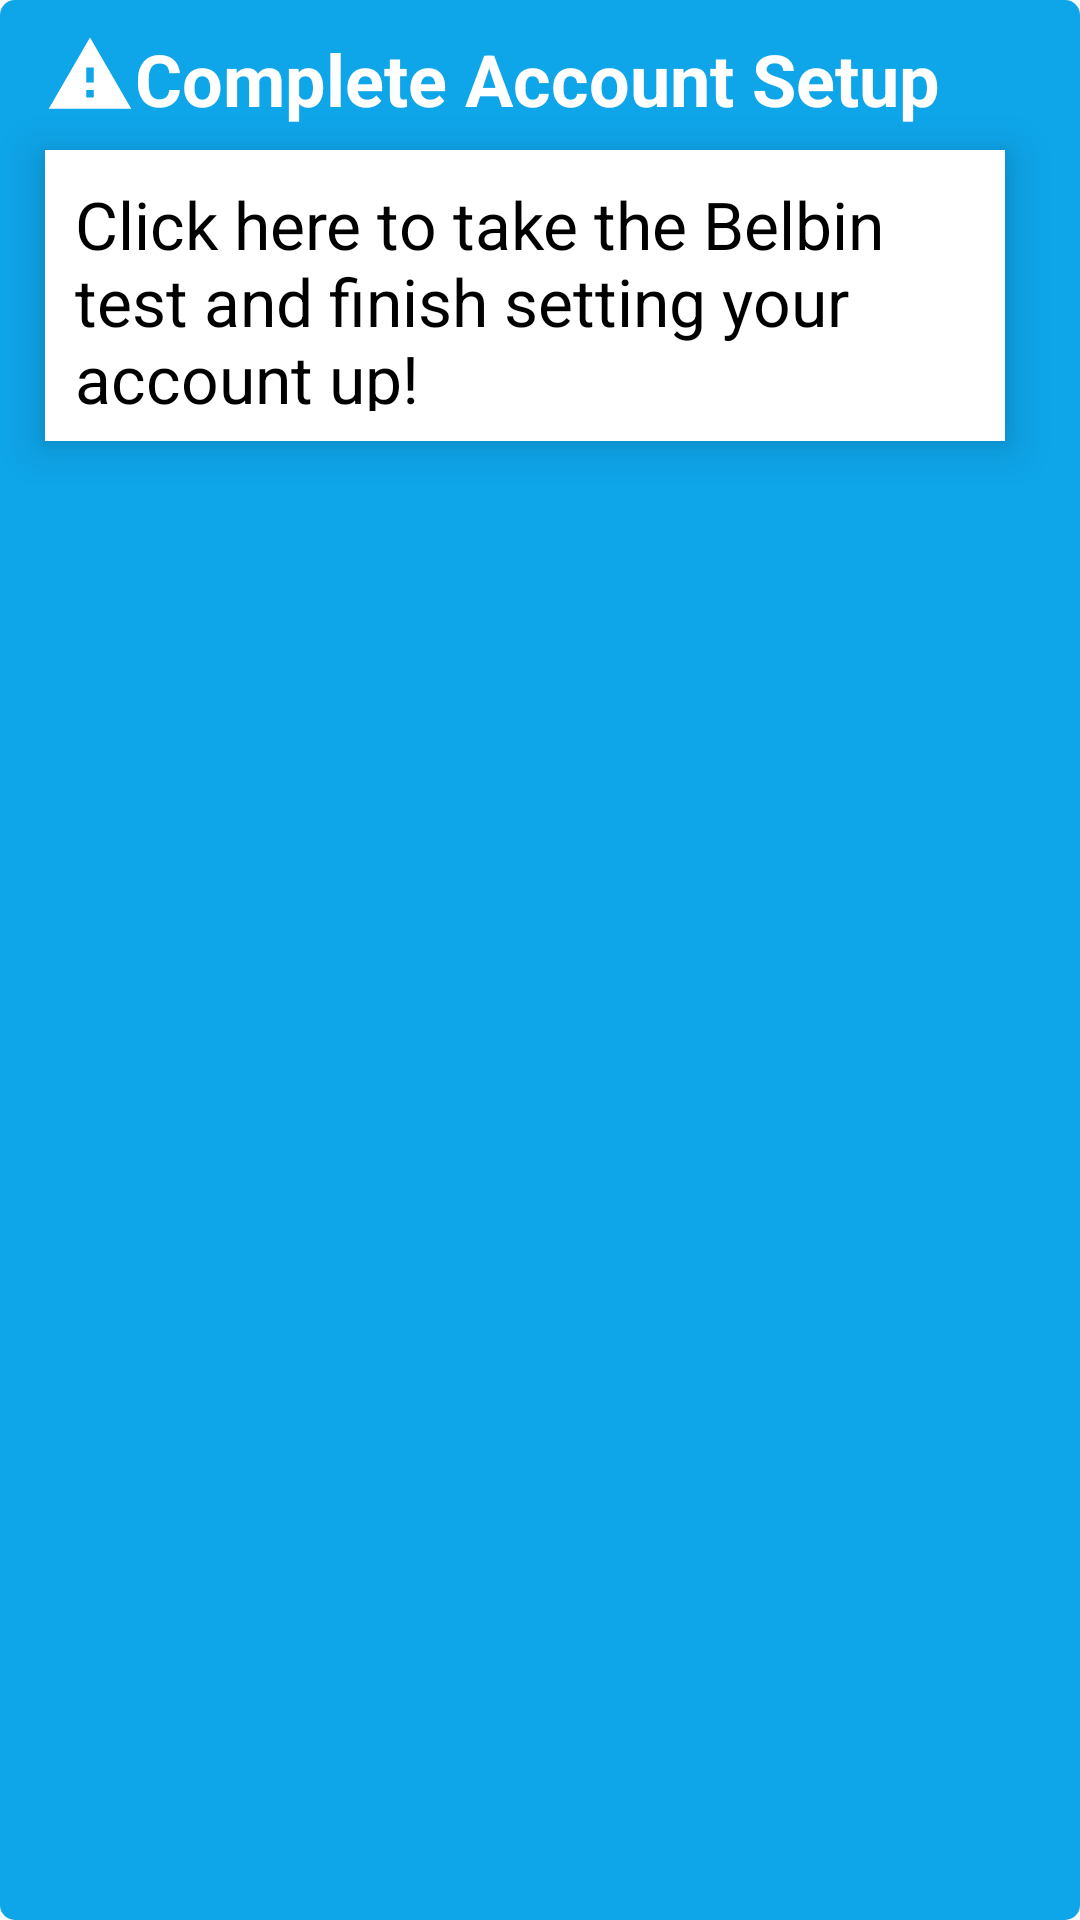

Named icons in this screenshot (1080×1920) and their centers, (x=x, y=y):
warning: (x=90, y=73)
